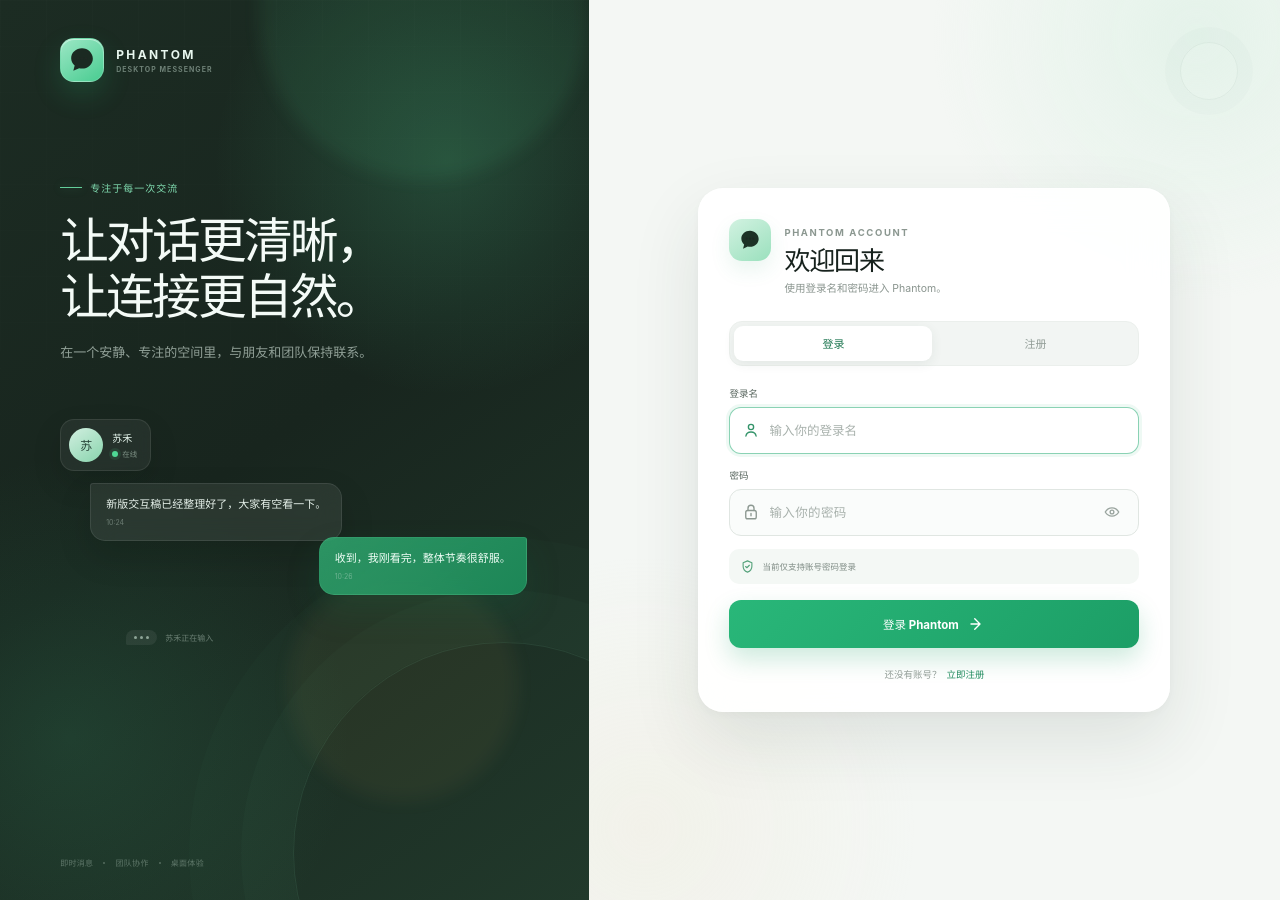
Test: AuthScreen › 注册成功后不自动登录，并回填登录名
The width and height of the screenshot is (1280, 900).
Click the button "注册" at [1035, 343], box [936,326,1134,361]
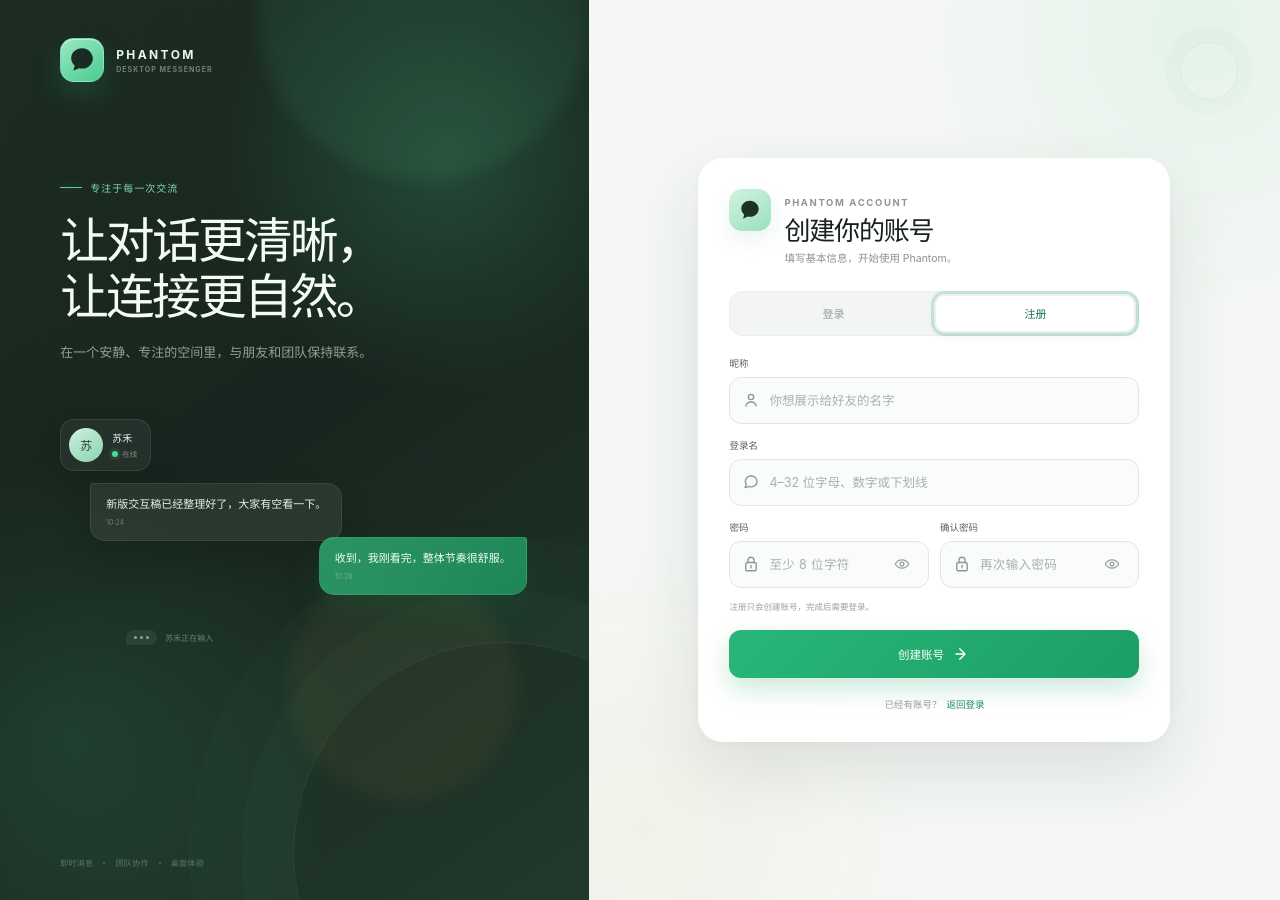
Type "Alice" into the field labelled "昵称" at [948, 400], box [769,378,1126,423]
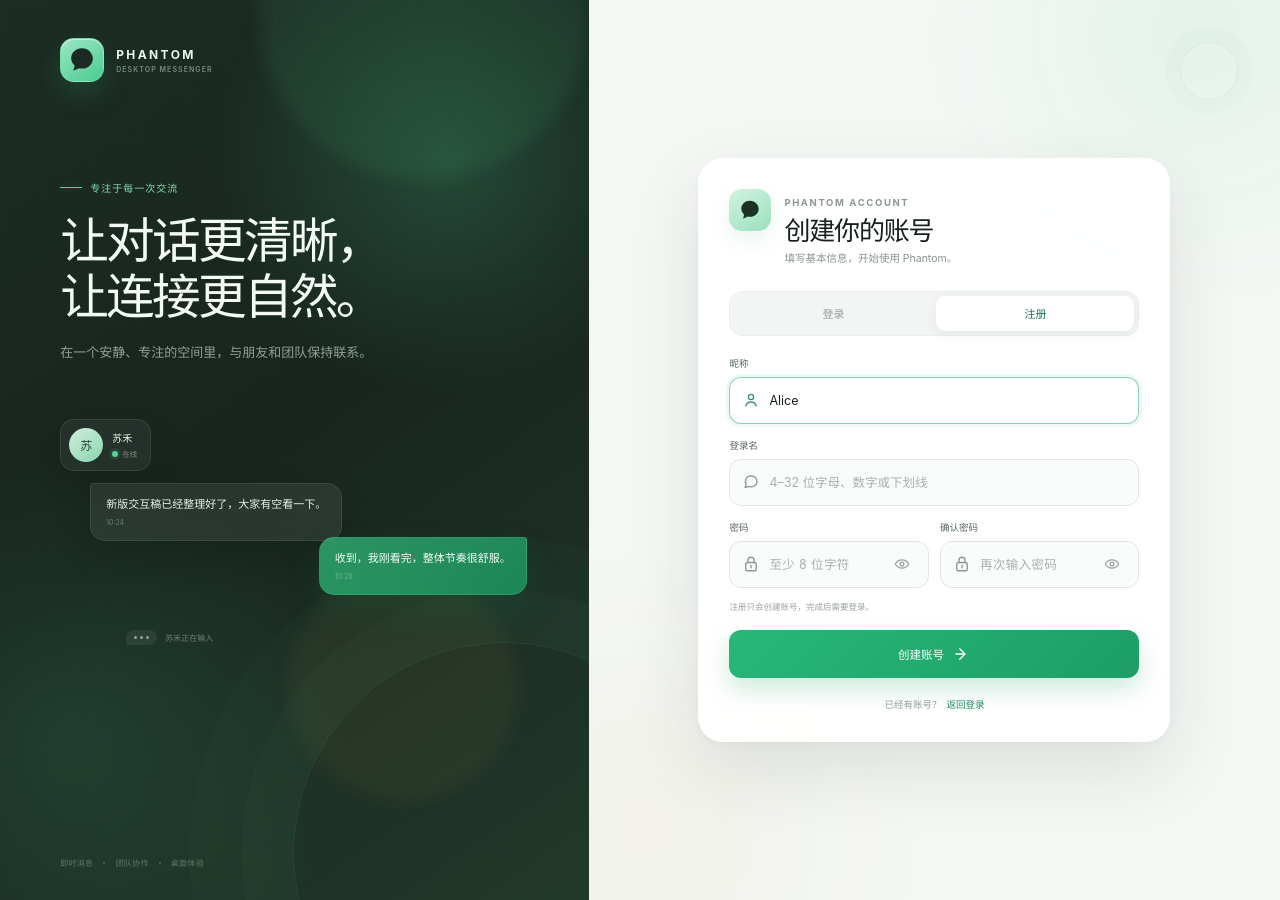
Type "alice_1" into the field labelled "登录名" at [948, 482], box [769,460,1126,505]
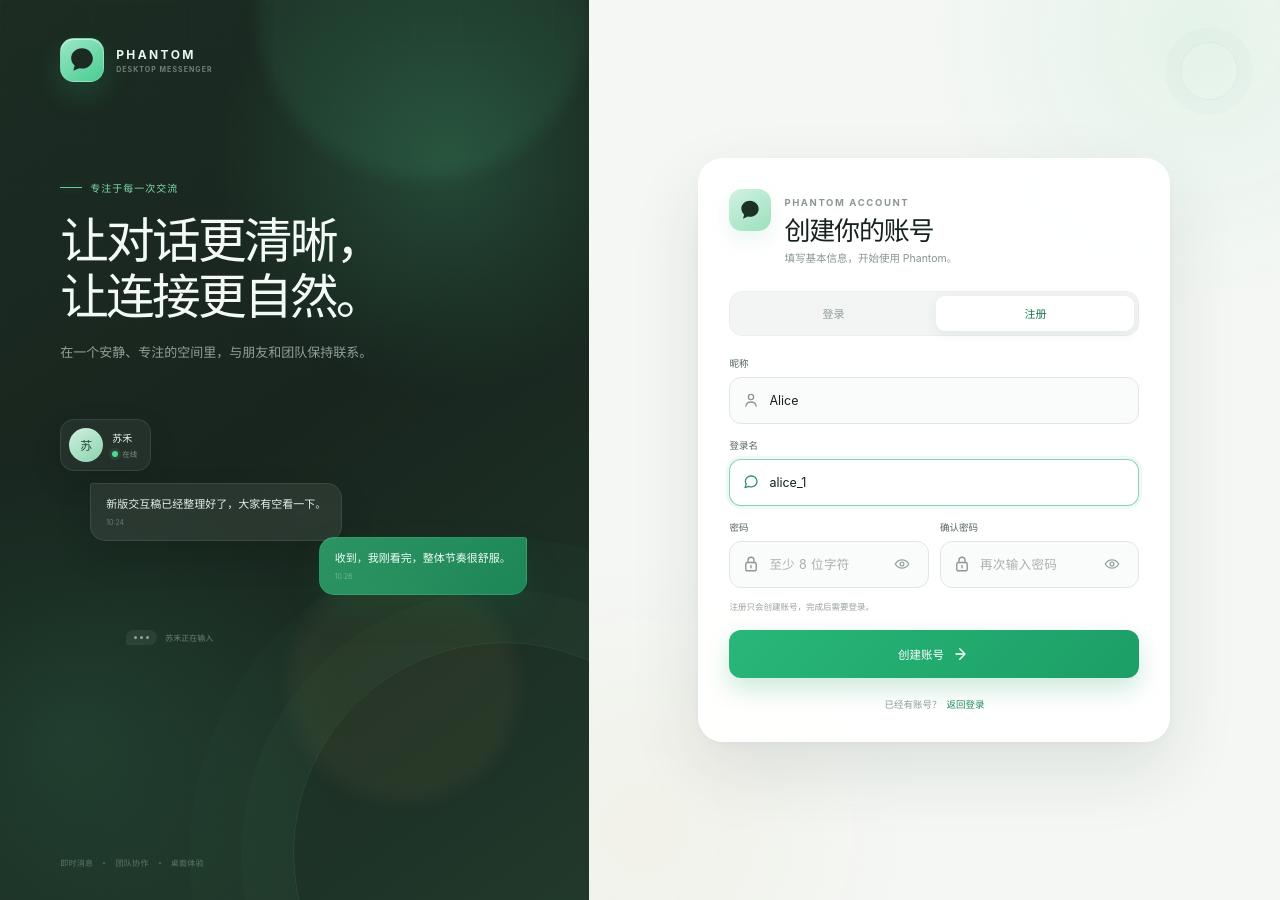
Type "password1" into the password field labelled "密码" at [824, 564], box [769,542,879,587]
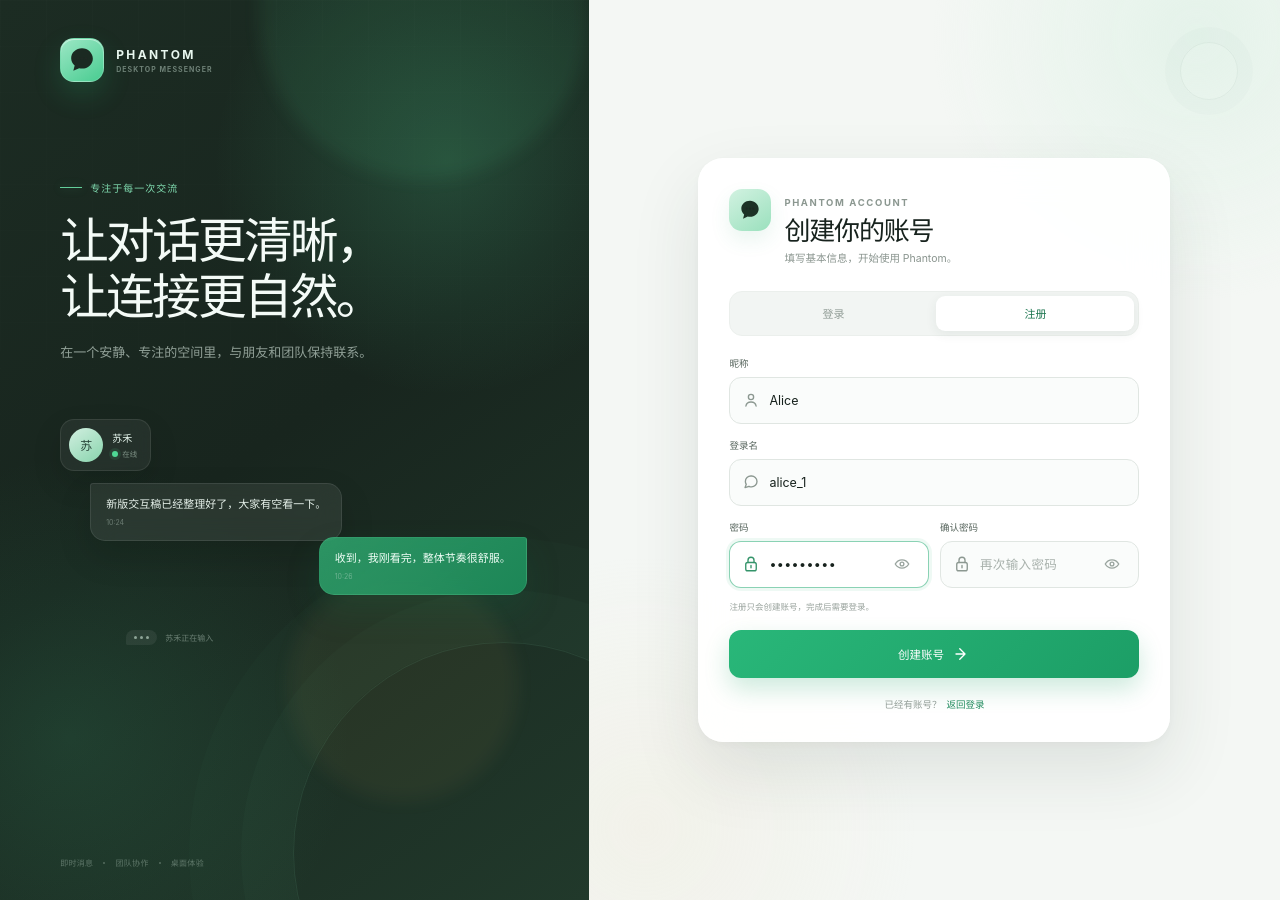
Type "password1" into the password field labelled "确认密码" at [1035, 564], box [980,542,1089,587]
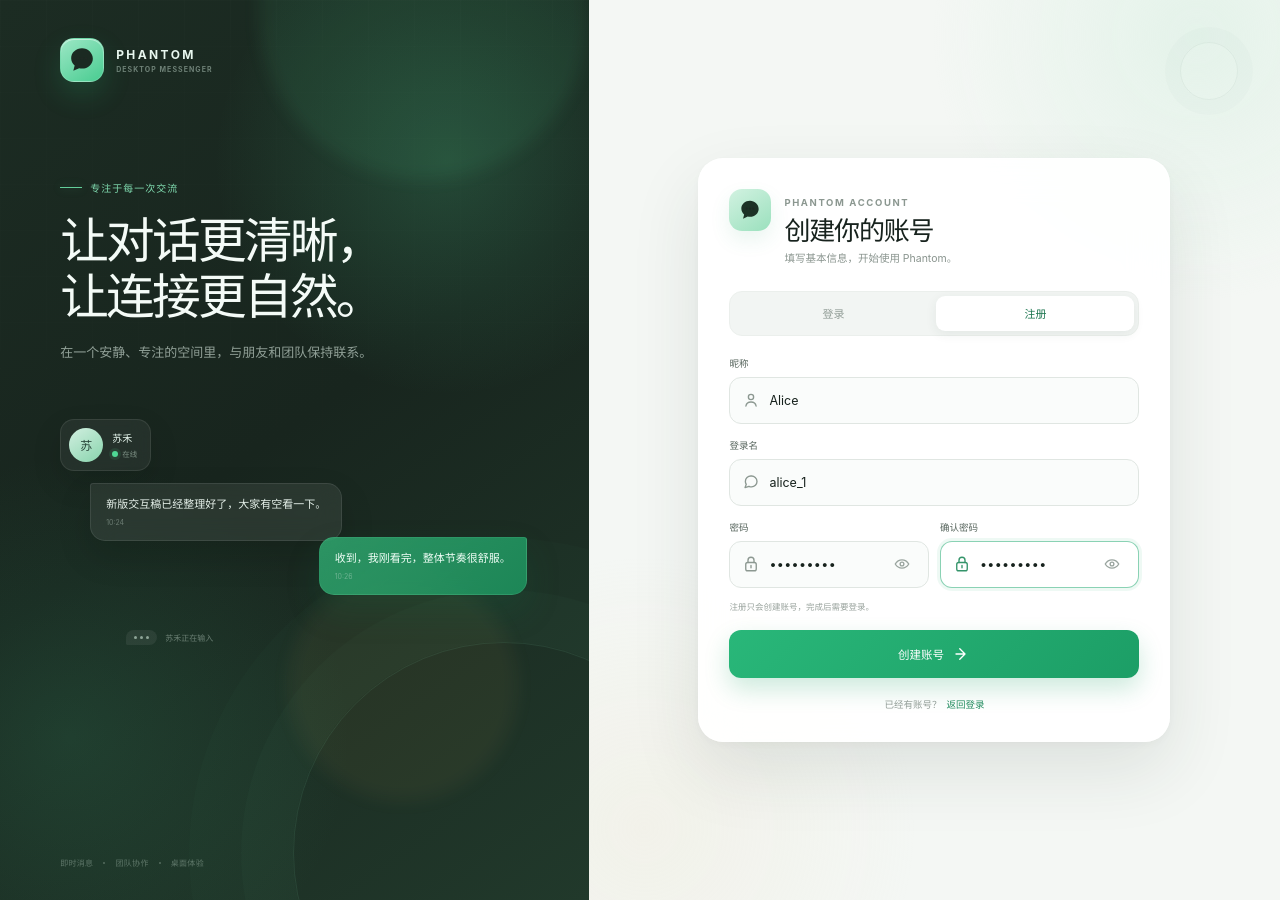
Click the button with test id "auth-register-submit" at [934, 654], box [729,630,1139,678]
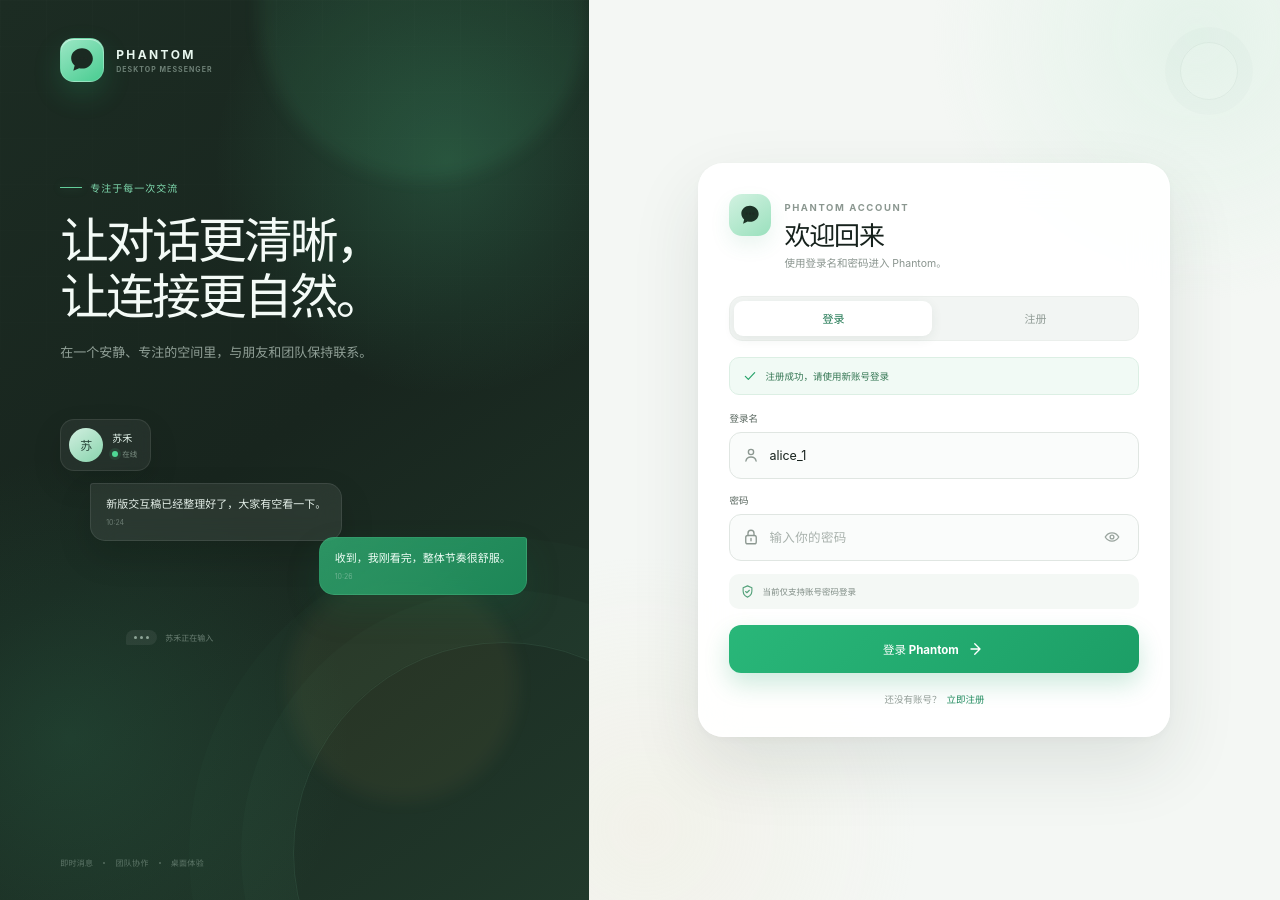
Check: the text "注册成功，请使用新账号登录" is shown, box [729,357,1139,395]
Check: the field labelled "登录名" holds "alice_1", box [769,433,1126,478]
